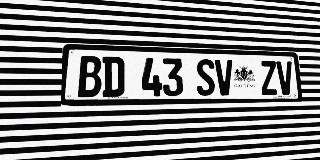3: (163, 58, 183, 96)
4: (141, 57, 162, 97)
B: (78, 56, 102, 97)
D: (102, 56, 124, 97)
S: (196, 59, 215, 96)
V: (215, 59, 234, 96), (276, 61, 294, 95)
Z: (260, 61, 278, 95)
